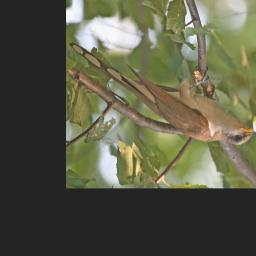Cuckoo: (68, 41, 256, 146)
